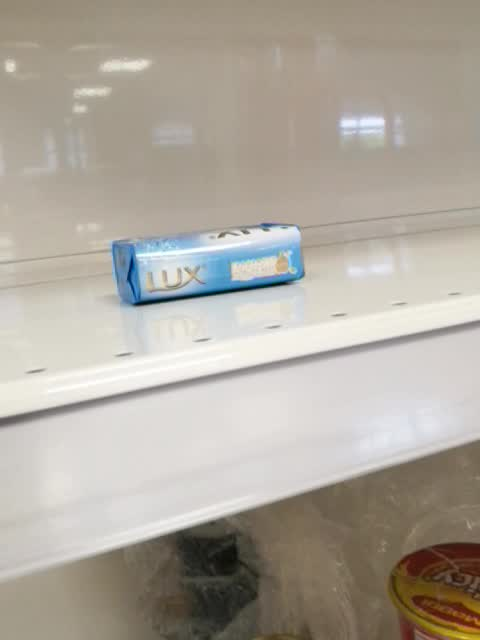soap: (110, 223, 307, 307)
